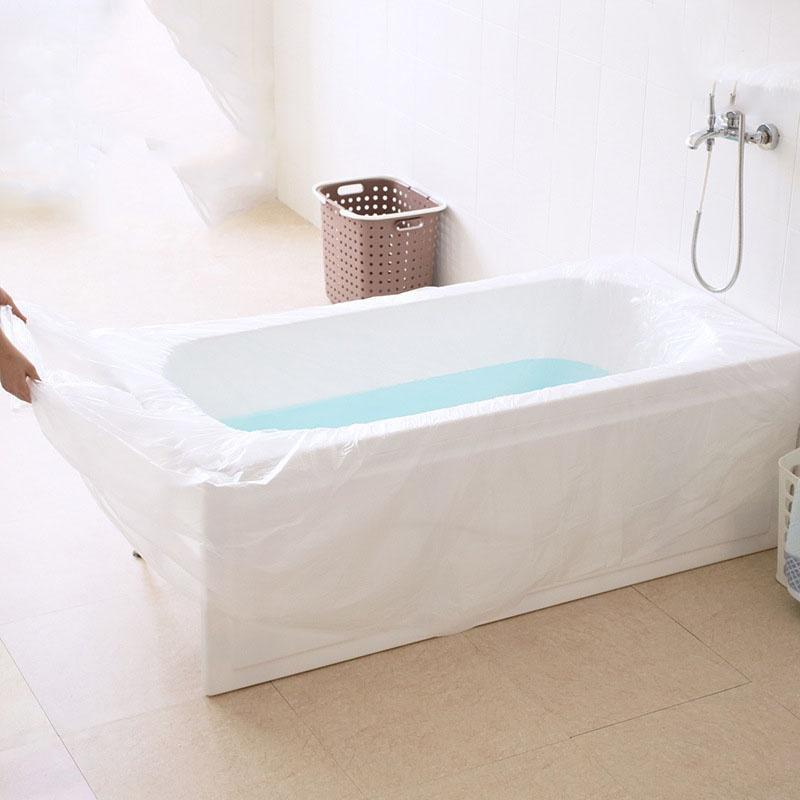bathub: (133, 252, 800, 699)
